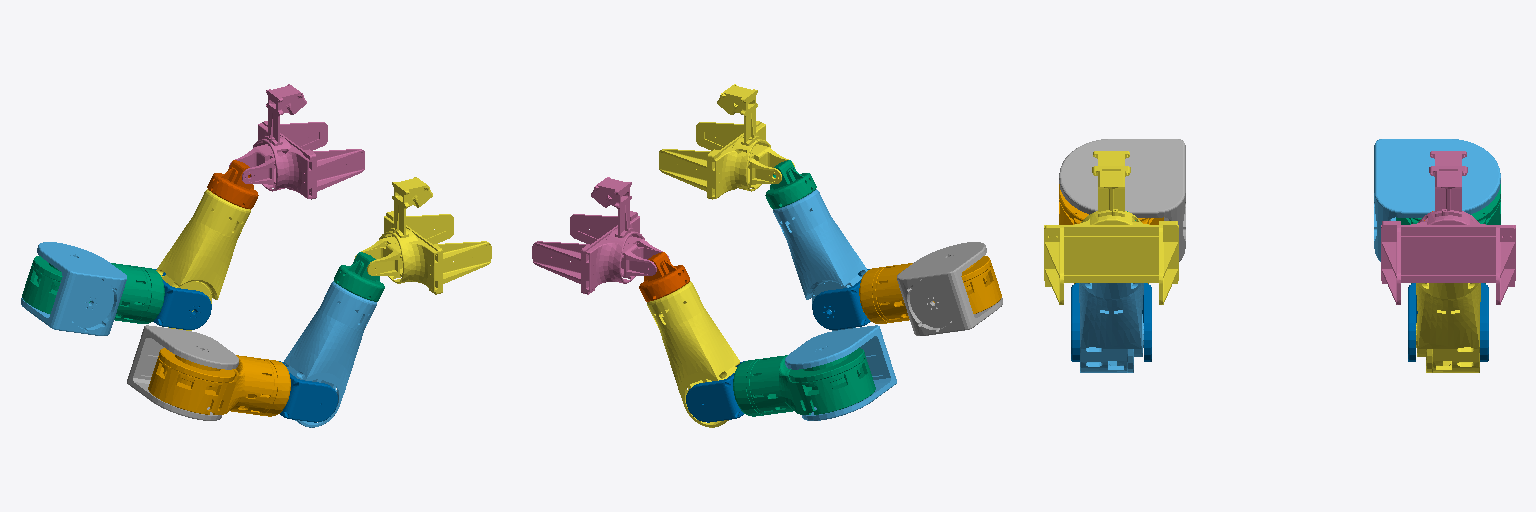
robot.urdf — two_arm_URDF:
<?xml version='1.0' encoding='utf-8'?>
<robot name="two_arm_URDF">
    <!--This URDF file is generated by ACDC4Robot: https://github.com/bionicdl-sustech/ACDC4Robot-->
    <link name="base">
        <inertial>
            <origin xyz="0.40410575531806814 0.059937551918568255 1.9955650574212371" rpy="0.0 0.0 0.0" />
            <mass value="7.623086454049788" />
            <inertia ixx="-46.32176427456355" iyy="-48.21185693424127" izz="-1.0601741395840976" ixy="-0.00026200070757104963" iyz="-0.0014707216286333577" ixz="9.345162621353573" />
        </inertial>
        <visual name="base_visual">
            <origin xyz="0.0 0.0 0.0" rpy="0.0 0.0 0.0" />
            <geometry>
                <mesh filename="meshes/base.stl" scale="0.001 0.001 0.001" />
            </geometry>
        </visual>
        <collision name="base_collision">
            <origin xyz="0.0 0.0 0.0" rpy="0.0 0.0 0.0" />
            <geometry>
                <mesh filename="meshes/base.stl" scale="0.001 0.001 0.001" />
            </geometry>
        </collision>
    </link>
    <link name="link_1_L">
        <inertial>
            <origin xyz="-0.002668773721014537 -0.000839197752934523 0.04660885178456152" rpy="0.0 -0.0 0.0" />
            <mass value="3.421743575363238" />
            <inertia ixx="0.011838423004306875" iyy="0.010637735631850609" izz="0.009889603802875015" ixy="0.0005021978197019967" iyz="-0.00017075019695666818" ixz="-0.0004303792882128651" />
        </inertial>
        <visual name="link_1_L_visual">
            <origin xyz="-1.0566521080335178e-09 -1.587468818065041e-09 -0.18219999738539308" rpy="1.5707963267948963 7.134092525342091e-17 -1.2217304763960308" />
            <geometry>
                <mesh filename="meshes/link_1_L.stl" scale="0.001 0.001 0.001" />
            </geometry>
        </visual>
        <collision name="link_1_L_collision">
            <origin xyz="-1.0566521080335178e-09 -1.587468818065041e-09 -0.18219999738539308" rpy="1.5707963267948963 7.134092525342091e-17 -1.2217304763960308" />
            <geometry>
                <mesh filename="meshes/link_1_L.stl" scale="0.001 0.001 0.001" />
            </geometry>
        </collision>
    </link>
    <link name="link_2_L">
        <inertial>
            <origin xyz="-0.05421558600531332 -8.982456499495584e-08 -0.03797355580452049" rpy="5.559350596991761e-49 -0.0 0.0" />
            <mass value="6.111704826426955" />
            <inertia ixx="0.02716617825131984" iyy="0.027902603443471632" izz="0.011141471235318834" ixy="-1.4817129669053575e-08" iyz="-3.1745453488163394e-09" ixz="-0.007623201693326967" />
        </inertial>
        <visual name="link_2_L_visual">
            <origin xyz="-0.03723531841253132 -0.2599999973853932 0.013552551056651945" rpy="-1.7166778490517746e-16 0.3490658503988658 -5.198791104771606e-16" />
            <geometry>
                <mesh filename="meshes/link_2_L.stl" scale="0.001 0.001 0.001" />
            </geometry>
        </visual>
        <collision name="link_2_L_collision">
            <origin xyz="-0.03723531841253132 -0.2599999973853932 0.013552551056651945" rpy="-1.7166778490517746e-16 0.3490658503988658 -5.198791104771606e-16" />
            <geometry>
                <mesh filename="meshes/link_2_L.stl" scale="0.001 0.001 0.001" />
            </geometry>
        </collision>
    </link>
    <link name="link_4_L">
        <inertial>
            <origin xyz="0.03602465587835628 -0.0634388659252234 0.037597948235984335" rpy="0.0 -0.0 0.0" />
            <mass value="4.663440786379495" />
            <inertia ixx="0.017878244469046622" iyy="0.008963666837180861" izz="0.022560219247713287" ixy="0.007374875777730403" iyz="0.0002165922392891718" ixz="-0.00012391655282318354" />
        </inertial>
        <visual name="link_4_L_visual">
            <origin xyz="-0.11000000448374453 0.1905255887767474 -0.22199999738539944" rpy="1.5707963267949314 2.063224007579454e-14 -2.6179938779914944" />
            <geometry>
                <mesh filename="meshes/link_4_L.stl" scale="0.001 0.001 0.001" />
            </geometry>
        </visual>
        <collision name="link_4_L_collision">
            <origin xyz="-0.11000000448374453 0.1905255887767474 -0.22199999738539944" rpy="1.5707963267949314 2.063224007579454e-14 -2.6179938779914944" />
            <geometry>
                <mesh filename="meshes/link_4_L.stl" scale="0.001 0.001 0.001" />
            </geometry>
        </collision>
    </link>
    <link name="link_3_L">
        <inertial>
            <origin xyz="0.03272090834140208 -0.0003896912791539364 0.011909419364326634" rpy="0.0 -0.0 0.0" />
            <mass value="1.049458783805515" />
            <inertia ixx="0.0020546014496497234" iyy="0.0010995556057020878" izz="0.00233559795205604" ixy="9.224035152757826e-06" iyz="3.352272086570157e-06" ixz="-0.00011789250890269581" />
        </inertial>
        <visual name="link_3_L_visual">
            <origin xyz="-0.151525431056652 0.25999999738539276 -0.055150751587468724" rpy="3.1415926535897922 1.2217304763960308 1.428356116882155e-15" />
            <geometry>
                <mesh filename="meshes/link_3_L.stl" scale="0.001 0.001 0.001" />
            </geometry>
        </visual>
        <collision name="link_3_L_collision">
            <origin xyz="-0.151525431056652 0.25999999738539276 -0.055150751587468724" rpy="3.1415926535897922 1.2217304763960308 1.428356116882155e-15" />
            <geometry>
                <mesh filename="meshes/link_3_L.stl" scale="0.001 0.001 0.001" />
            </geometry>
        </collision>
    </link>
    <link name="link_5_L">
        <inertial>
            <origin xyz="0.011664701698788065 0.00020327928236483218 -0.02020386505189487" rpy="0.0 -0.0 -1.7516230804060217e-46" />
            <mass value="0.9945622772727956" />
            <inertia ixx="0.0005376359127803321" iyy="0.0005036146468778977" izz="0.0005867086739891891" ixy="-2.0193902573462093e-06" iyz="3.5068446871885923e-06" ixz="-4.24982292838438e-05" />
        </inertial>
        <visual name="link_5_L_visual">
            <origin xyz="-0.2006250044837452 0.2599999973854 0.34749268877674866" rpy="2.0986767188766295e-14 0.5235987755982988 3.141592653589769" />
            <geometry>
                <mesh filename="meshes/link_5_L.stl" scale="0.001 0.001 0.001" />
            </geometry>
        </visual>
        <collision name="link_5_L_collision">
            <origin xyz="-0.2006250044837452 0.2599999973854 0.34749268877674866" rpy="2.0986767188766295e-14 0.5235987755982988 3.141592653589769" />
            <geometry>
                <mesh filename="meshes/link_5_L.stl" scale="0.001 0.001 0.001" />
            </geometry>
        </collision>
    </link>
    <link name="end_point_L">
        <inertial>
            <origin xyz="0.07855517529187019 -0.015580827561764963 0.019002232275368486" rpy="0.0 -0.0 0.0" />
            <mass value="2.238441847971124" />
            <inertia ixx="0.00790909100933107" iyy="0.006464351417833081" izz="0.006038197326536543" ixy="-0.00011279915869086277" iyz="-6.0764726199217015e-05" ixz="-5.291249551730905e-06" />
        </inertial>
        <visual name="end_point_L_visual">
            <origin xyz="-0.4500000046773276 -2.814483490709563e-09 -0.2409999973853762" rpy="1.5707963267948857 -4.599959197839429e-15 -1.5707963267948968" />
            <geometry>
                <mesh filename="meshes/end_point_L.stl" scale="0.001 0.001 0.001" />
            </geometry>
        </visual>
        <collision name="end_point_L_collision">
            <origin xyz="-0.4500000046773276 -2.814483490709563e-09 -0.2409999973853762" rpy="1.5707963267948857 -4.599959197839429e-15 -1.5707963267948968" />
            <geometry>
                <mesh filename="meshes/end_point_L.stl" scale="0.001 0.001 0.001" />
            </geometry>
        </collision>
    </link>
    <link name="link_1_R">
        <inertial>
            <origin xyz="-0.0026687737210101758 -0.0008391977529331918 -0.04660884655535592" rpy="0.0 -0.0 0.0" />
            <mass value="3.421743575364216" />
            <inertia ixx="0.011838423004310324" iyy="0.010637735631854417" izz="0.009889603802877626" ixy="0.0005021978197017701" iyz="0.00017075019695694384" ixz="0.00043037928821351425" />
        </inertial>
        <visual name="link_1_R_visual">
            <origin xyz="-1.0566520547428126e-09 -1.5874687864236847e-09 0.18220000261460745" rpy="-1.5707963267948963 7.134092525342202e-17 -1.2217304763960306" />
            <geometry>
                <mesh filename="meshes/link_1_R.stl" scale="0.001 0.001 0.001" />
            </geometry>
        </visual>
        <collision name="link_1_R_collision">
            <origin xyz="-1.0566520547428126e-09 -1.5874687864236847e-09 0.18220000261460745" rpy="-1.5707963267948963 7.134092525342202e-17 -1.2217304763960306" />
            <geometry>
                <mesh filename="meshes/link_1_R.stl" scale="0.001 0.001 0.001" />
            </geometry>
        </collision>
    </link>
    <link name="link_2_R">
        <inertial>
            <origin xyz="-0.05421560646906773 -9.602237601047392e-08 0.03797360219644077" rpy="0.0 -0.0 0.0" />
            <mass value="6.111710880540644" />
            <inertia ixx="0.027166211568185605" iyy="0.02790264020447325" izz="0.01114148123800594" ixy="-1.486523979387852e-08" iyz="3.1234863064055762e-09" ixz="0.007623212449300957" />
        </inertial>
        <visual name="link_2_R_visual">
            <origin xyz="-0.0372353184125312 -0.2600000026146075 -0.013552551056652052" rpy="-3.9920352689734593e-16 -0.349065850398866 -2.3881646511518015e-16" />
            <geometry>
                <mesh filename="meshes/link_2_R.stl" scale="0.001 0.001 0.001" />
            </geometry>
        </visual>
        <collision name="link_2_R_collision">
            <origin xyz="-0.0372353184125312 -0.2600000026146075 -0.013552551056652052" rpy="-3.9920352689734593e-16 -0.349065850398866 -2.3881646511518015e-16" />
            <geometry>
                <mesh filename="meshes/link_2_R.stl" scale="0.001 0.001 0.001" />
            </geometry>
        </collision>
    </link>
    <link name="link_4_R">
        <inertial>
            <origin xyz="0.03602465269167507 0.06343886803136405 0.03759794262673393" rpy="0.0 -0.0 0.0" />
            <mass value="4.66344073102469" />
            <inertia ixx="0.017878244167787986" iyy="0.008963667160317157" izz="0.022560219201456067" ixy="-0.0073748759605754685" iyz="-0.00021659219433970404" ixz="-0.00012391670165655971" />
        </inertial>
        <visual name="link_4_R_visual">
            <origin xyz="-0.11000000448374499 -0.19052558877674738 -0.22200000261461394" rpy="1.5707963267948644 2.175190069207012e-14 2.6179938779914944" />
            <geometry>
                <mesh filename="meshes/link_4_R.stl" scale="0.001 0.001 0.001" />
            </geometry>
        </visual>
        <collision name="link_4_R_collision">
            <origin xyz="-0.11000000448374499 -0.19052558877674738 -0.22200000261461394" rpy="1.5707963267948644 2.175190069207012e-14 2.6179938779914944" />
            <geometry>
                <mesh filename="meshes/link_4_R.stl" scale="0.001 0.001 0.001" />
            </geometry>
        </collision>
    </link>
    <link name="link_5_R">
        <inertial>
            <origin xyz="0.011664449915668342 -0.00020329922140977175 -0.020203432443585197" rpy="0.0 -0.0 0.0" />
            <mass value="0.9944903142302435" />
            <inertia ixx="0.0005375988209976243" iyy="0.000503524663906324" izz="0.0005866507030101997" ixy="2.024886267923409e-06" iyz="-3.5037884166966987e-06" ixz="-4.248017931512277e-05" />
        </inertial>
        <visual name="link_5_R_visual">
            <origin xyz="-0.20062500448374582 -0.26000000261461353 0.3474926887767492" rpy="3.1415926535897745 0.5235987755982989 -3.141592653589768" />
            <geometry>
                <mesh filename="meshes/link_5_R.stl" scale="0.001 0.001 0.001" />
            </geometry>
        </visual>
        <collision name="link_5_R_collision">
            <origin xyz="-0.20062500448374582 -0.26000000261461353 0.3474926887767492" rpy="3.1415926535897745 0.5235987755982989 -3.141592653589768" />
            <geometry>
                <mesh filename="meshes/link_5_R.stl" scale="0.001 0.001 0.001" />
            </geometry>
        </collision>
    </link>
    <link name="end_point_R">
        <inertial>
            <origin xyz="0.07855520484552322 0.015580724608617267 0.01900229854317263" rpy="0.0 1.4779319740925805e-46 0.0" />
            <mass value="2.238439986935529" />
            <inertia ixx="0.00790903444519283" iyy="0.006464281182225362" izz="0.006038206833950732" ixy="0.0001127936521339296" iyz="6.076422284260542e-05" ixz="-5.2887550934312615e-06" />
        </inertial>
        <visual name="end_point_R_visual">
            <origin xyz="-0.45000000467732854 2.8144830999110584e-09 -0.24100000261459234" rpy="1.5707963267949074 -2.61386713002723e-15 1.5707963267948966" />
            <geometry>
                <mesh filename="meshes/end_point_R.stl" scale="0.001 0.001 0.001" />
            </geometry>
        </visual>
        <collision name="end_point_R_collision">
            <origin xyz="-0.45000000467732854 2.8144830999110584e-09 -0.24100000261459234" rpy="1.5707963267949074 -2.61386713002723e-15 1.5707963267948966" />
            <geometry>
                <mesh filename="meshes/end_point_R.stl" scale="0.001 0.001 0.001" />
            </geometry>
        </collision>
    </link>
    <link name="link_3_R">
        <inertial>
            <origin xyz="0.03272091490920747 0.0003896841540610696 0.011909421815884995" rpy="1.0947644252537633e-47 -0.0 0.0" />
            <mass value="1.049458547261083" />
            <inertia ixx="0.0020546010105775654" iyy="0.0010995553063330994" izz="0.0023355973886947656" ixy="-9.224093249278474e-06" iyz="-3.3522941348604336e-06" ixz="-0.00011789245840576959" />
        </inertial>
        <visual name="link_3_R_visual">
            <origin xyz="-0.1515254310566522 -0.2600000026146071 -0.05515075158746881" rpy="-2.304555219687488e-16 1.2217304763960306 -6.561428452979289e-16" />
            <geometry>
                <mesh filename="meshes/link_3_R.stl" scale="0.001 0.001 0.001" />
            </geometry>
        </visual>
        <collision name="link_3_R_collision">
            <origin xyz="-0.1515254310566522 -0.2600000026146071 -0.05515075158746881" rpy="-2.304555219687488e-16 1.2217304763960306 -6.561428452979289e-16" />
            <geometry>
                <mesh filename="meshes/link_3_R.stl" scale="0.001 0.001 0.001" />
            </geometry>
        </collision>
    </link>
    <joint name="rot_L1" type="continuous">
        <origin xyz="1.0566520103338918e-09 0.18219999738539272 -1.5874686876138357e-09" rpy="-1.5707963267948961 1.6653345369377336e-16 7.21644966006351e-16" />
        <parent link="base" />
        <child link="link_1_L" />
        <axis xyz="-4.1663675001976565e-32 3.8857805861880464e-16 1.0" />
    </joint>
    <joint name="rot_L2" type="continuous">
        <origin xyz="0.013552550000000005 -0.03723531999999997 0.07780000000000005" rpy="1.5707963267948966 -3.8857805861880464e-16 -1.5707963267948966" />
        <parent link="link_1_L" />
        <child link="link_2_L" />
        <axis xyz="-0.939693 9.299886998271218e-32 0.3420199999999999" />
    </joint>
    <joint name="rot_L3" type="continuous">
        <origin xyz="-0.09238606999999999 0.0 -0.13797288" rpy="-3.141592653589793 1.5707963267948966 0" />
        <parent link="link_2_L" />
        <child link="link_3_L" />
        <axis xyz="0.939693 2.1078609906538316e-33 0.34202" />
    </joint>
    <joint name="rot_L4" type="continuous">
        <origin xyz="0.05520695 0.03800000000000004 0.020093680000000003" rpy="1.5707963267948974 -1.1102230246251565e-16 5.473822126268817e-48" />
        <parent link="link_3_L" />
        <child link="link_4_L" />
        <axis xyz="0.0 7.771561172376089e-16 1.0" />
    </joint>
    <joint name="rot_L5" type="continuous">
        <origin xyz="0.090625 -0.15696709999999997 0.038000000000000186" rpy="-1.5707963267948974 -4.733165431326071e-30 0.0" />
        <parent link="link_4_L" />
        <child link="link_5_L" />
        <axis xyz="0.49999999999999994 0.0 -0.866025" />
    </joint>
    <joint name="rot_R1" type="continuous">
        <origin xyz="1.0566521702060073e-09 -0.0622000026146073 -1.5874687281369759e-09" rpy="-1.5707963267948968 1.6653345369377336e-16 7.21644966006351e-16" />
        <parent link="base" />
        <child link="link_1_R" />
        <axis xyz="-4.1663675001976565e-32 -3.8857805861880464e-16 1.0" />
    </joint>
    <joint name="rot_R2" type="continuous">
        <origin xyz="0.013552550000000005 -0.03723531999999997 -0.07780000000000002" rpy="-1.5707963267948966 3.8857805861880464e-16 -1.5707963267948968" />
        <parent link="link_1_R" />
        <child link="link_2_R" />
        <axis xyz="0.939693 -3.1354432147666987e-32 0.34202" />
    </joint>
    <joint name="rot_R3" type="continuous">
        <origin xyz="-0.09238607 0.0 0.13797288" rpy="1.2325951644078305e-32 -1.5707963267948966 0" />
        <parent link="link_2_R" />
        <child link="link_3_R" />
        <axis xyz="-0.939693 -2.1036110025269536e-32 -0.34202" />
    </joint>
    <joint name="rot_R4" type="continuous">
        <origin xyz="0.05520695 -0.038000000000000006 0.020093679999999996" rpy="-1.5707963267948974 -3.646298014371764e-63 4.930380657631325e-32" />
        <parent link="link_3_R" />
        <child link="link_4_R" />
        <axis xyz="0.0 7.771561172376087e-16 -1.0" />
    </joint>
    <joint name="rot_R5" type="continuous">
        <origin xyz="0.090625 0.15696709999999997 0.038000000000000124" rpy="1.5707963267948974 -0.0 0.0" />
        <parent link="link_4_R" />
        <child link="link_5_R" />
        <axis xyz="-0.5 1.9438321565550953e-30 0.866025" />
    </joint>
    <joint name="rot_R6" type="continuous">
        <origin xyz="0.024375 -0.019000000000000003 -0.04221874" rpy="-1.5707963267948974 5.551115123125783e-17 3.1554436208840472e-30" />
        <parent link="link_5_R" />
        <child link="end_point_R" />
        <axis xyz="-3.1554436208840472e-30 7.771561172376069e-16 -1.0" />
    </joint>
    <joint name="rot_L6" type="continuous">
        <origin xyz="0.024375 0.01900000000000006 -0.04221874" rpy="1.5707963267948974 5.551115123125783e-17 4.733165431326072e-30" />
        <parent link="link_5_L" />
        <child link="end_point_L" />
        <axis xyz="0.0 7.771561172376101e-16 1.0" />
    </joint>
</robot>

--- Facts derived from the render (not from the file) ---
The picture shows the robot from 3 angles, left to right: view 1: azimuth 30°, elevation 25°; view 2: azimuth 150°, elevation 25°; view 3: azimuth 270°, elevation 25°; orthographic projection.
Robot: two_arm_URDF — 13 links, 12 joints (12 continuous); root link base; default pose: all joints at 0.
Links seen in each view (by area): view 1: end_point_R, end_point_L, link_2_R, link_4_R, link_1_L, link_4_L, link_1_R, link_2_L, link_3_L, link_3_R, link_5_L, link_5_R; view 2: end_point_L, end_point_R, link_2_L, link_4_L, link_1_R, link_4_R, link_1_L, link_2_R, link_3_R, link_3_L, link_5_R, link_5_L; view 3: end_point_L, end_point_R, link_1_L, link_1_R, link_4_L, link_4_R, link_3_L, link_3_R, link_2_L, link_2_R.
Boxes of the visible links, x1=… form: end_point_R: x1=354, y1=177, x2=491, y2=294; end_point_L: x1=229, y1=84, x2=364, y2=199; link_2_R: x1=148, y1=348, x2=290, y2=416; link_4_R: x1=284, y1=281, x2=376, y2=427; link_1_L: x1=21, y1=242, x2=126, y2=335; link_4_L: x1=156, y1=189, x2=250, y2=330; link_1_R: x1=127, y1=325, x2=238, y2=420; link_2_L: x1=22, y1=256, x2=164, y2=323; link_3_L: x1=153, y1=269, x2=211, y2=329; link_3_R: x1=279, y1=361, x2=337, y2=422; link_5_L: x1=207, y1=160, x2=258, y2=209; link_5_R: x1=334, y1=252, x2=384, y2=301; end_point_L: x1=532, y1=177, x2=669, y2=294; end_point_R: x1=659, y1=84, x2=794, y2=199; link_2_L: x1=733, y1=348, x2=875, y2=416; link_4_L: x1=647, y1=281, x2=739, y2=427; link_1_R: x1=897, y1=242, x2=1002, y2=335; link_4_R: x1=773, y1=189, x2=867, y2=330; link_1_L: x1=785, y1=325, x2=896, y2=420; link_2_R: x1=859, y1=256, x2=1001, y2=323; link_3_R: x1=812, y1=269, x2=870, y2=329; link_3_L: x1=686, y1=361, x2=744, y2=422; link_5_R: x1=765, y1=160, x2=816, y2=209; link_5_L: x1=639, y1=252, x2=689, y2=301; end_point_L: x1=1381, y1=151, x2=1515, y2=304; end_point_R: x1=1044, y1=151, x2=1178, y2=304; link_1_L: x1=1374, y1=139, x2=1500, y2=261; link_1_R: x1=1059, y1=139, x2=1185, y2=261; link_4_L: x1=1416, y1=283, x2=1480, y2=372; link_4_R: x1=1079, y1=283, x2=1143, y2=372; link_3_L: x1=1408, y1=283, x2=1488, y2=361; link_3_R: x1=1071, y1=283, x2=1151, y2=361; link_2_L: x1=1396, y1=184, x2=1500, y2=283; link_2_R: x1=1059, y1=184, x2=1163, y2=283.
Bounding box of the posed robot: 0.5862 × 0.5593 × 0.3658 m (x, y, z).
12 mesh visuals loaded from 13 distinct referenced files (12 binary STL); not drawn: 1 (reference not matched to a file when rendering).
